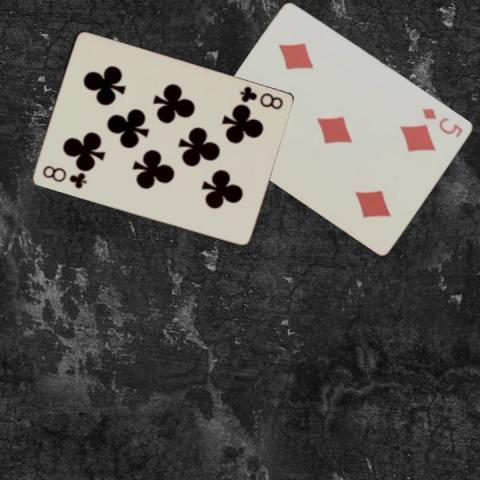5d: (419, 105, 465, 139)
8c: (39, 162, 88, 191), (237, 84, 284, 112)
